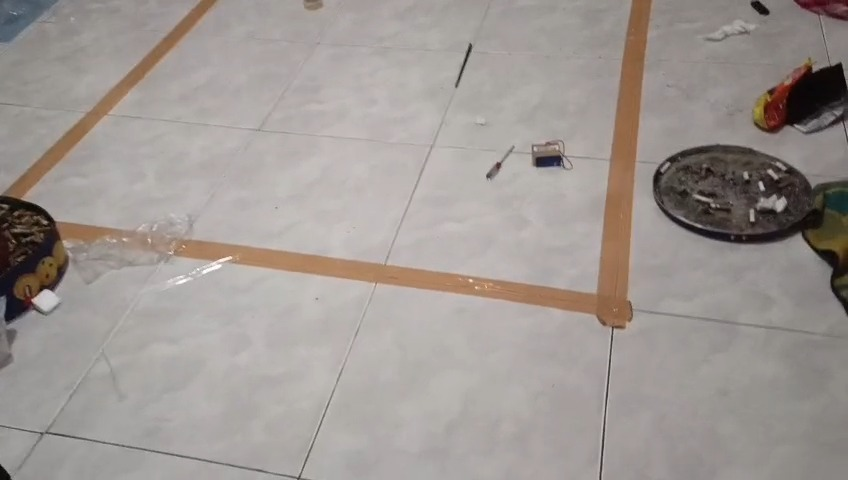floor marking: (177, 0, 649, 327), (6, 0, 216, 196), (62, 223, 119, 239)
